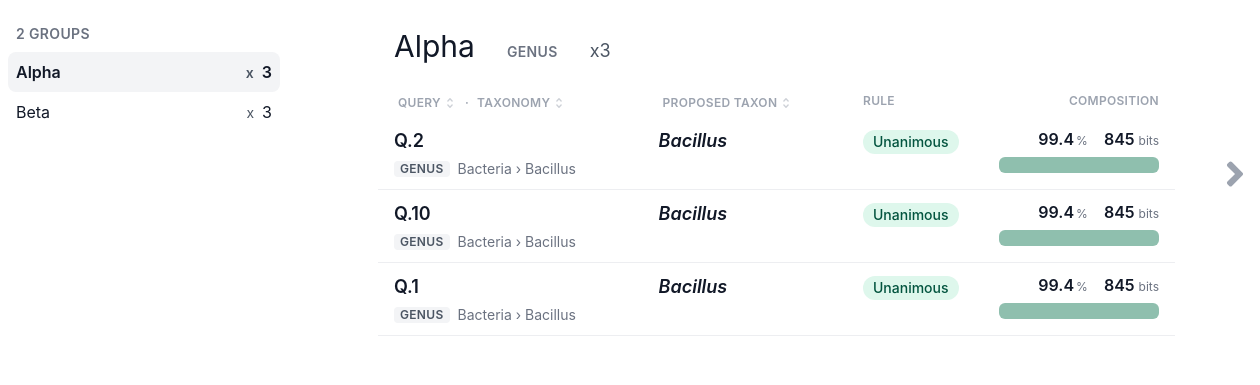
GroupedByTaxonomyView/Grouped › sorting within the group › 'Original order' restores the group's order
Click the button with aria-label "Sort by Query".
click(427, 103)  # box [394,93,461,113]
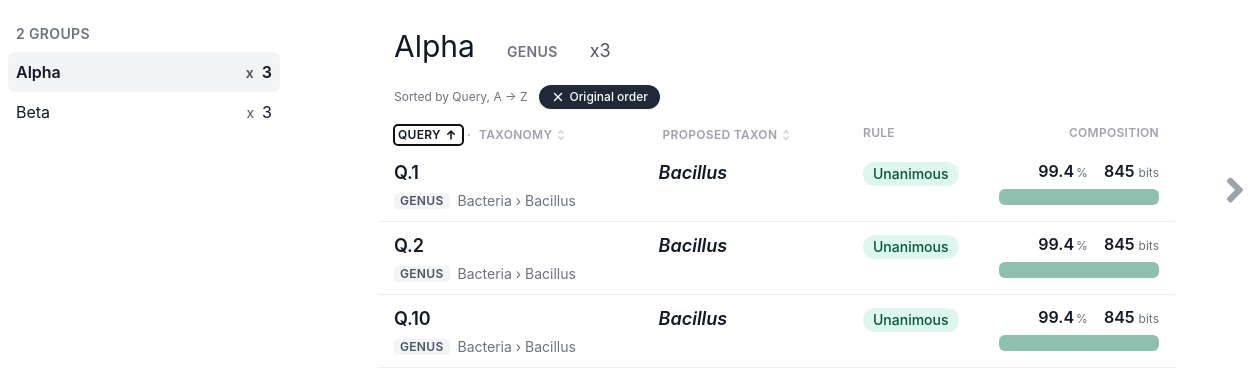
Click the button "Original order".
click(600, 97)  # box [539,85,660,109]
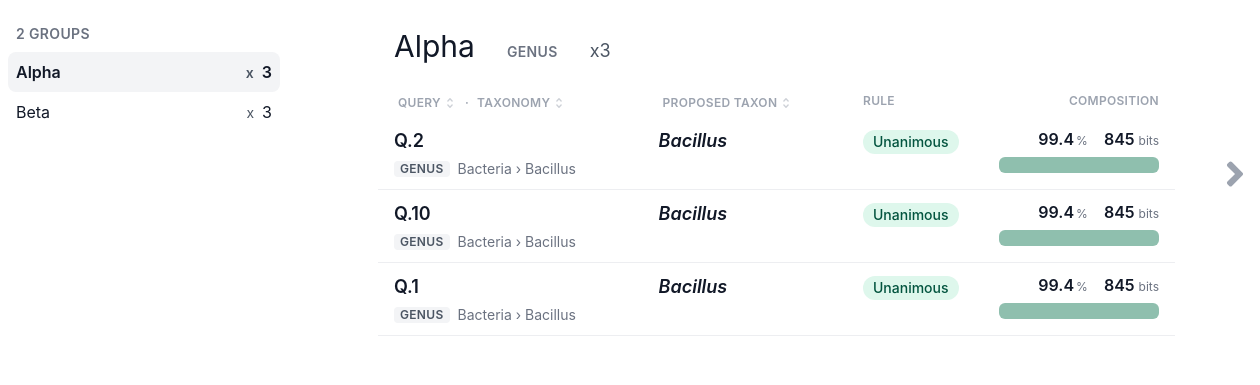
Expected: the button "Original order" is gone
